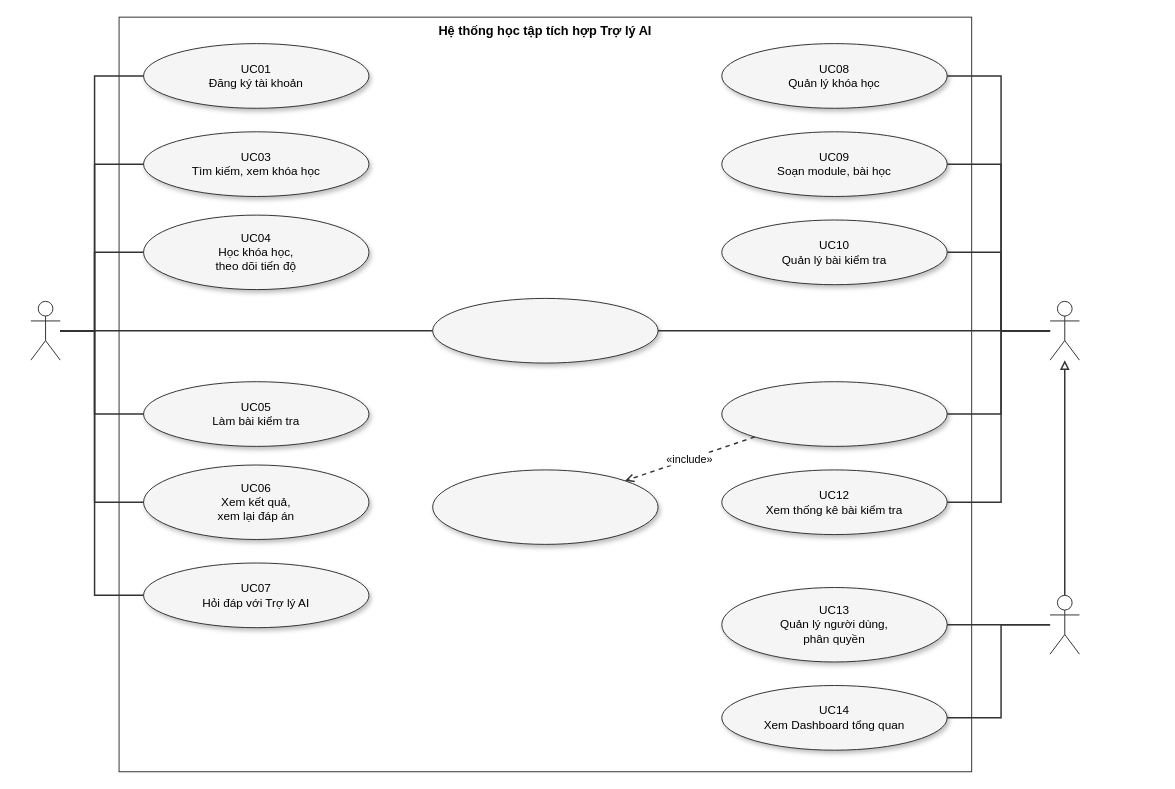
This 1175x789 diagram has some shape labels left out. Each missing label, with the centre of its shape:
"Giảng viên" belongs at pixel 1064 330.
"Quản trị viên" belongs at pixel 1064 624.
"Sinh viên" belongs at pixel 45 330.
"UC02 Đăng nhập, đăng xuất" belongs at pixel 546 332.
"UC11 Nạp tài liệu cho Trợ lý AI" belongs at pixel 835 415.
"UC15 Xử lý tài liệu (vector hóa vào ChromaDB)" belongs at pixel 546 508.
